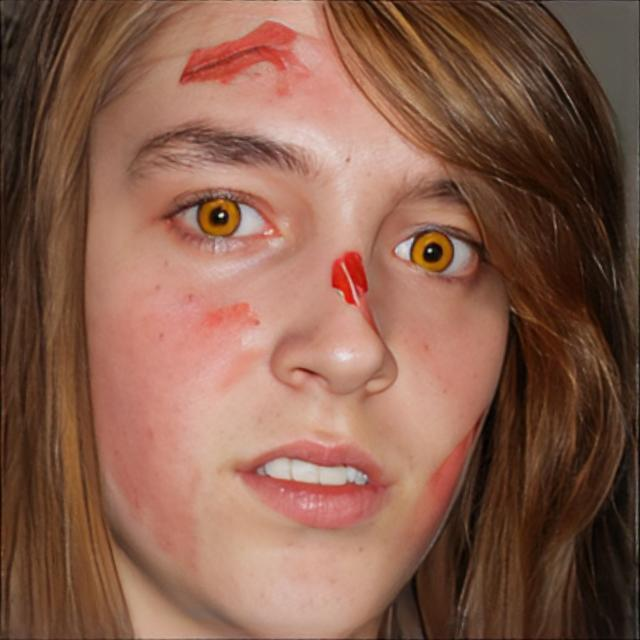surprise: (83, 0, 513, 640)
